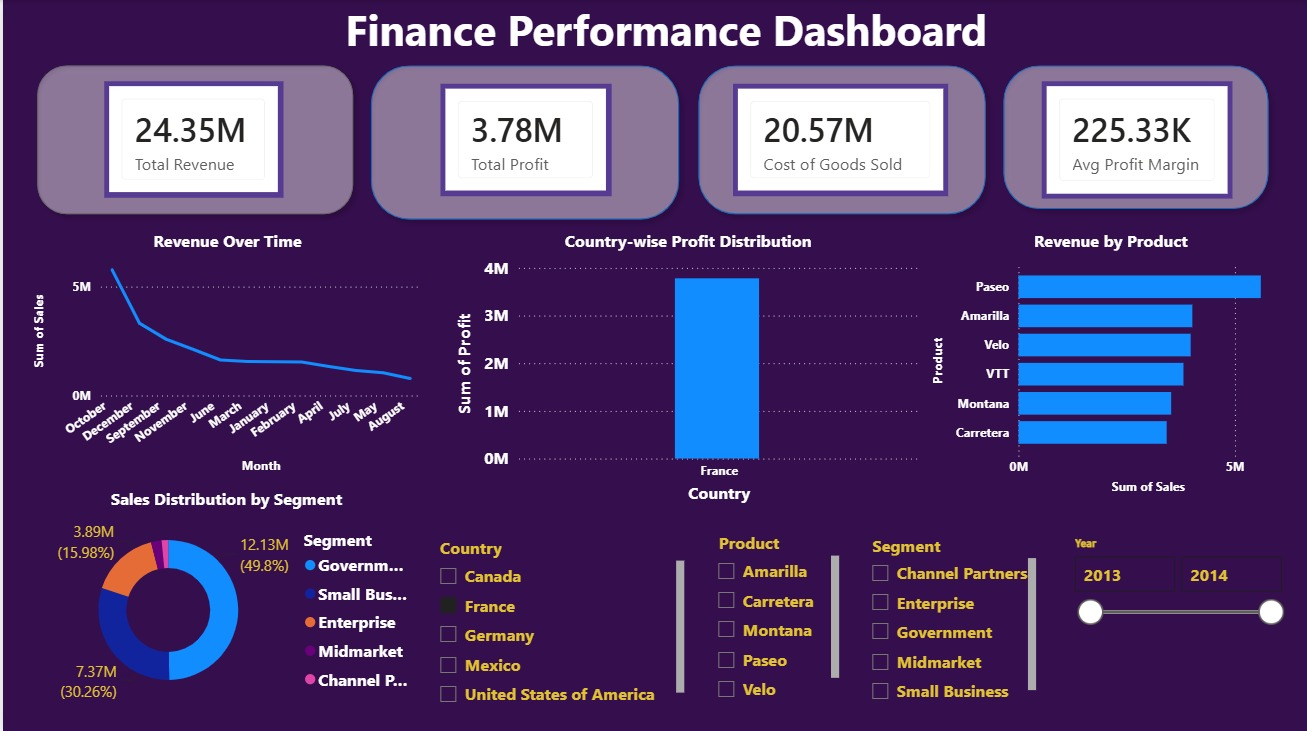

This screenshot's page, from the dashboard's own definition file:
{"tool":"powerbi","page":{"name":"Page 1","canvas":[1280,720],"ordinal":0},"visuals":[{"type":"shape","box":[24.4,55.1,328.2,164.1],"z":0},{"type":"cardVisual","fields":{"Data":["Sum(financials. Sales)"]},"box":[100,79.5,175.6,114.1],"z":1000},{"type":"shape","box":[352.6,55.1,320.5,169.2],"z":2000},{"type":"cardVisual","fields":{"Data":["Sum(financials.Profit)"]},"box":[429.5,82.1,167.9,110.3],"z":3000},{"type":"shape","box":[673.1,55.1,300,164.1],"z":4000},{"type":"cardVisual","fields":{"Data":["Sum(financials.COGS)"]},"box":[716.7,82.1,211.5,110.3],"z":5000},{"type":"lineChart","title":"Revenue Over Time","fields":{"Category":["financials.Month Name"],"Y":["Sum(financials. Sales)"]},"box":[25.6,224.4,389.7,244.9],"z":6000},{"type":"clusteredColumnChart","title":"Country-wise Profit Distribution","fields":{"Category":["financials.Country"],"Y":["Sum(financials.Profit)"]},"box":[441,224.4,464.1,274.4],"z":7000},{"type":"clusteredBarChart","title":"Revenue by Product","fields":{"Category":["financials.Product"],"Y":["Sum(financials. Sales)"]},"box":[907.7,224.4,359,265.4],"z":8000},{"type":"donutChart","title":"Sales Distribution by Segment","fields":{"Category":["financials.Segment"],"Y":["Sum(financials. Sales)"]},"box":[24.4,478.2,389.7,219.2],"z":9000},{"type":"slicer","fields":{"Values":["financials.Country"]},"box":[415.4,521.8,257.7,175.6],"z":10000},{"type":"slicer","fields":{"Values":["financials.Product"]},"box":[689.7,516.7,135.9,178.2],"z":11000},{"type":"slicer","fields":{"Values":["financials.Segment"]},"box":[841,519.2,178.2,175.6],"z":12000},{"type":"slicer","fields":{"Values":["financials.Year"]},"box":[1039.7,521.8,226.9,98.7],"z":13000},{"type":"shape","box":[973.1,55.1,278.2,159],"z":14000},{"type":"cardVisual","fields":{"Data":["Sum(financials.Profit Margin)"]},"box":[1019.2,79.5,187.2,115.4],"z":15000},{"type":"actionButton","title":"Finance Performance Dashboard","box":[188.5,0,924.4,55.1],"z":16000}]}

Visuals, with their boxes in screenshot pixels (x1, y1, x2, y2), scaled from the page's 1280x720 canvas onto the 1307x731 screenshot:
shape: detection(25, 56, 360, 223)
cardVisual - Sum(financials. Sales): detection(102, 81, 281, 197)
shape: detection(360, 56, 687, 228)
cardVisual - Sum(financials.Profit): detection(439, 83, 610, 195)
shape: detection(687, 56, 994, 223)
cardVisual - Sum(financials.COGS): detection(732, 83, 948, 195)
"Revenue Over Time" lineChart: detection(26, 228, 424, 476)
"Country-wise Profit Distribution" clusteredColumnChart: detection(450, 228, 924, 506)
"Revenue by Product" clusteredBarChart: detection(927, 228, 1293, 497)
"Sales Distribution by Segment" donutChart: detection(25, 486, 423, 708)
slicer - financials.Country: detection(424, 530, 687, 708)
slicer - financials.Product: detection(704, 525, 843, 706)
slicer - financials.Segment: detection(859, 527, 1041, 705)
slicer - financials.Year: detection(1062, 530, 1293, 630)
shape: detection(994, 56, 1278, 217)
cardVisual - Sum(financials.Profit Margin): detection(1041, 81, 1232, 198)
"Finance Performance Dashboard" actionButton: detection(192, 0, 1136, 56)
